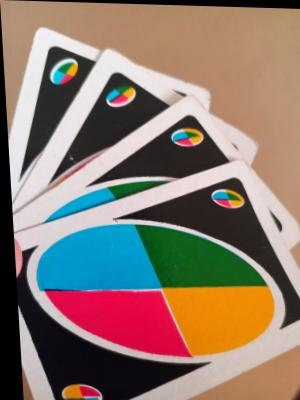wild: (38, 56, 81, 85), (98, 84, 138, 110), (203, 186, 244, 211), (163, 125, 205, 149)
